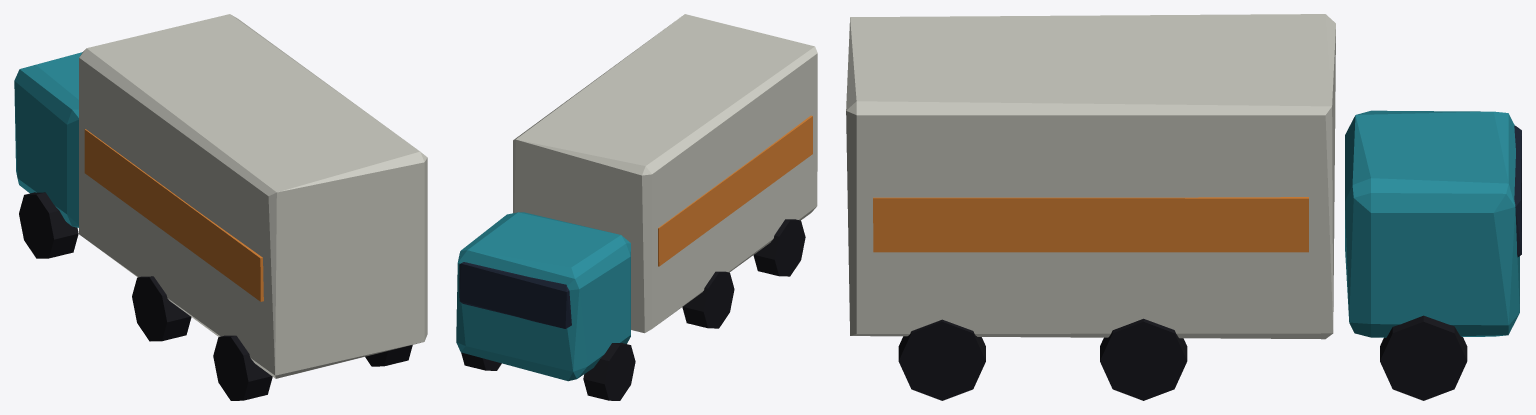
Rendered from box_truck.glb.
3 renders of one model, left to right at view 1: azimuth 30°, elevation 25°; view 2: azimuth 150°, elevation 25°; view 3: azimuth 270°, elevation 25°, orthographic. The views are drawn at different scales.
Parts seen in each view (by area): view 1: box_truck; view 2: box_truck; view 3: box_truck.
Part boxes in pixels (x1,y1,x2,y2): box_truck: [14, 14, 427, 400]; box_truck: [456, 14, 817, 400]; box_truck: [846, 14, 1521, 400].
Size of the model in its own units: 2.7 by 3.7 by 7.72.
